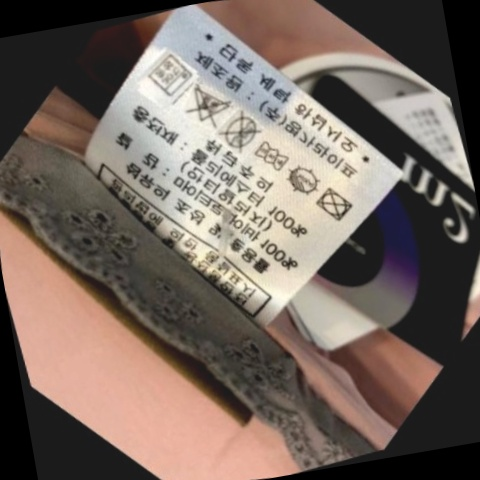30C: (136, 46, 202, 107)
DN_dry_clean: (207, 106, 270, 161)
DN_tumble_dry: (309, 180, 357, 228)
dry_flat_in_shade: (274, 152, 331, 203)
non_chlorine_bleach: (176, 78, 238, 135)
wring: (243, 131, 298, 184)
